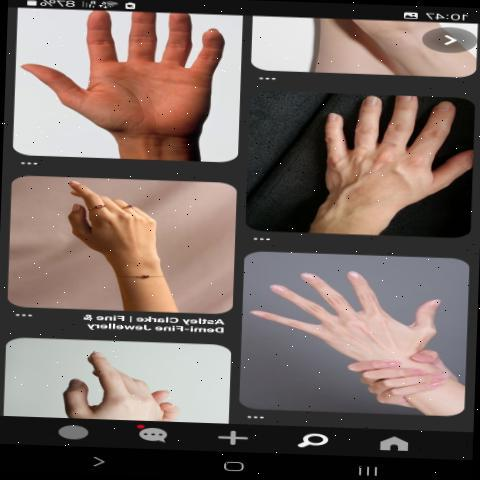Hands: (15, 14, 229, 136), (260, 98, 474, 218), (243, 264, 448, 360), (47, 177, 186, 294)
